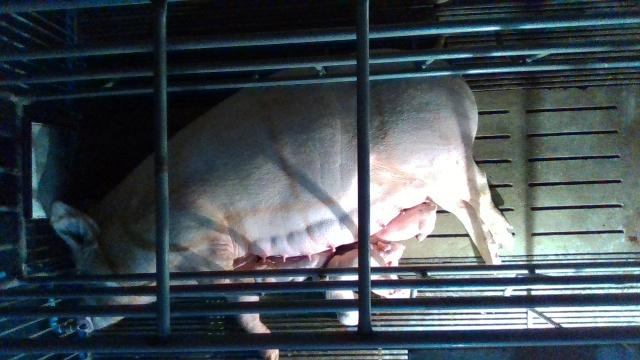piglet: (327, 241, 404, 281), (369, 202, 437, 244), (254, 251, 336, 282)
sow-sleep-lactate: (47, 50, 516, 360)
